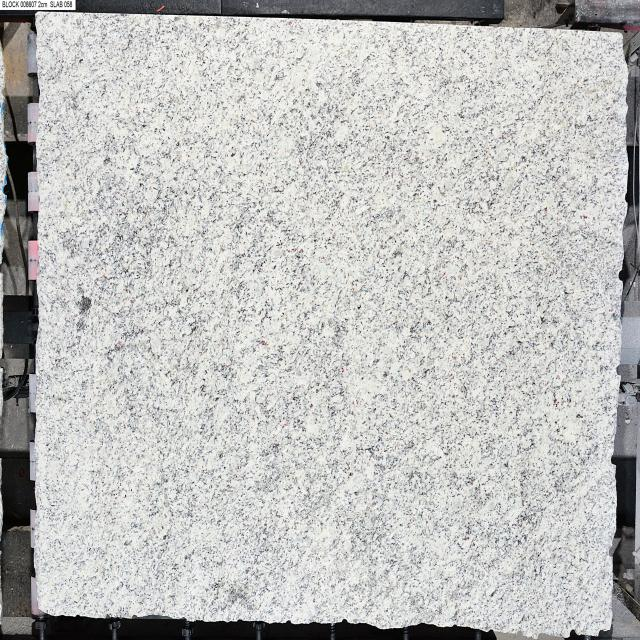chapa: (35, 14, 628, 636)
veio: (606, 542, 616, 560), (614, 362, 623, 380), (610, 451, 618, 469), (617, 266, 624, 284), (568, 628, 578, 640), (516, 628, 524, 639)
